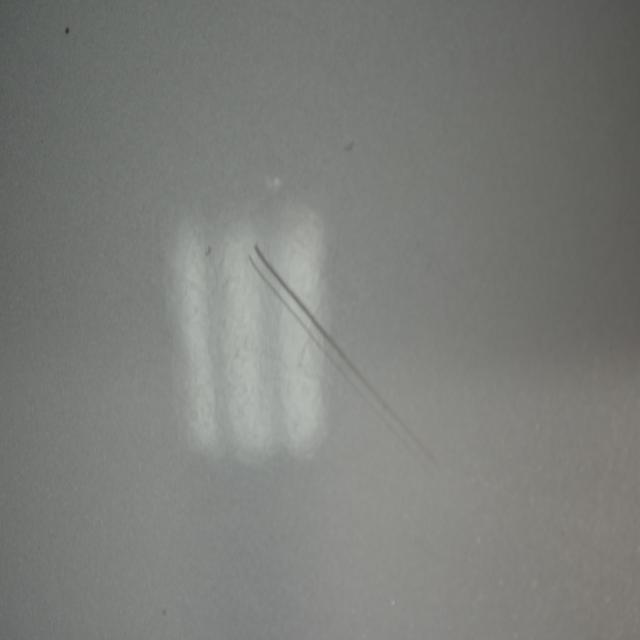dirt: (339, 129, 362, 162), (202, 236, 217, 264), (62, 22, 73, 38)
scratch: (244, 233, 451, 489)
